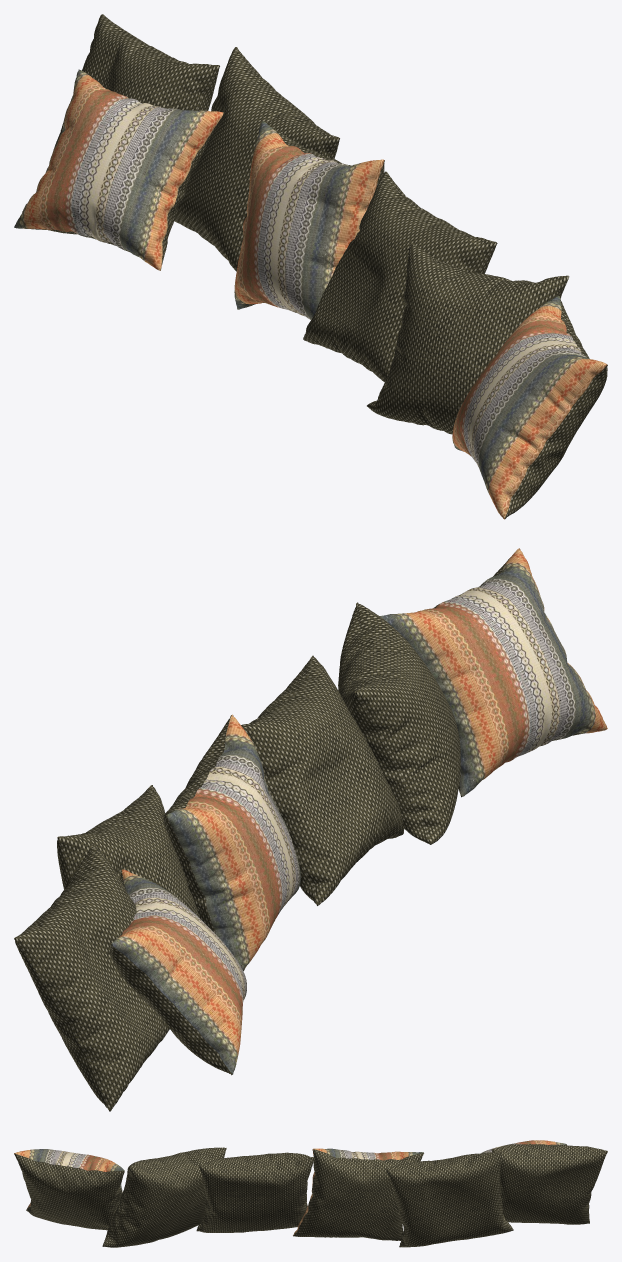
3 renders of one model, top to bottom at view 1: azimuth 30°, elevation 25°; view 2: azimuth 150°, elevation 25°; view 3: azimuth 270°, elevation 25°, orthographic. The views are drawn at different scales.
Visible parts, largest first — view 1: default.001; view 2: default.001; view 3: default.001.
Part boxes in pixels (bbox=[...]): default.001: bbox=[14, 14, 607, 519]; default.001: bbox=[14, 548, 607, 1111]; default.001: bbox=[14, 1140, 607, 1247].
Bounding box in the file's own units: 0.451 × 0.3668 × 1.74.
2 materials, 2 textured.
